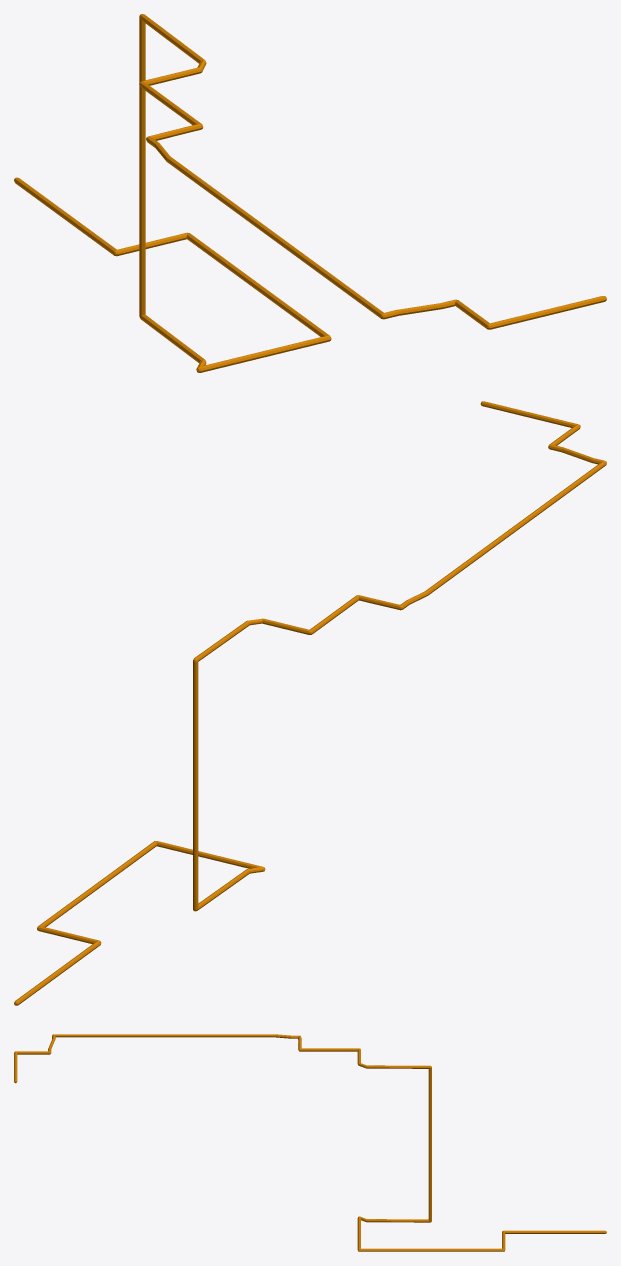
The picture shows the model from 3 angles, top to bottom: view 1: azimuth 30°, elevation 25°; view 2: azimuth 150°, elevation 25°; view 3: azimuth 270°, elevation 25°; orthographic projection. The views are drawn at different scales.
Bounding box in the file's own units: 869 × 1020 × 3498.
